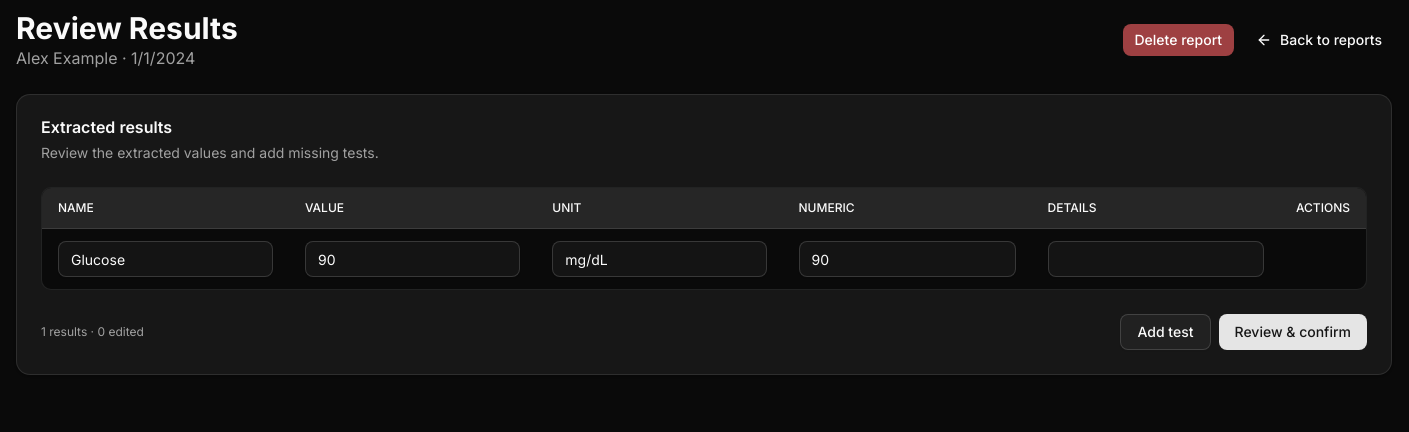
Test: confirm saves pending edits and marks edited
The image size is (1409, 432).
Replace the text in the field named "name" with "Fasting Glucose". click: (166, 259)
box: [58, 241, 273, 277]
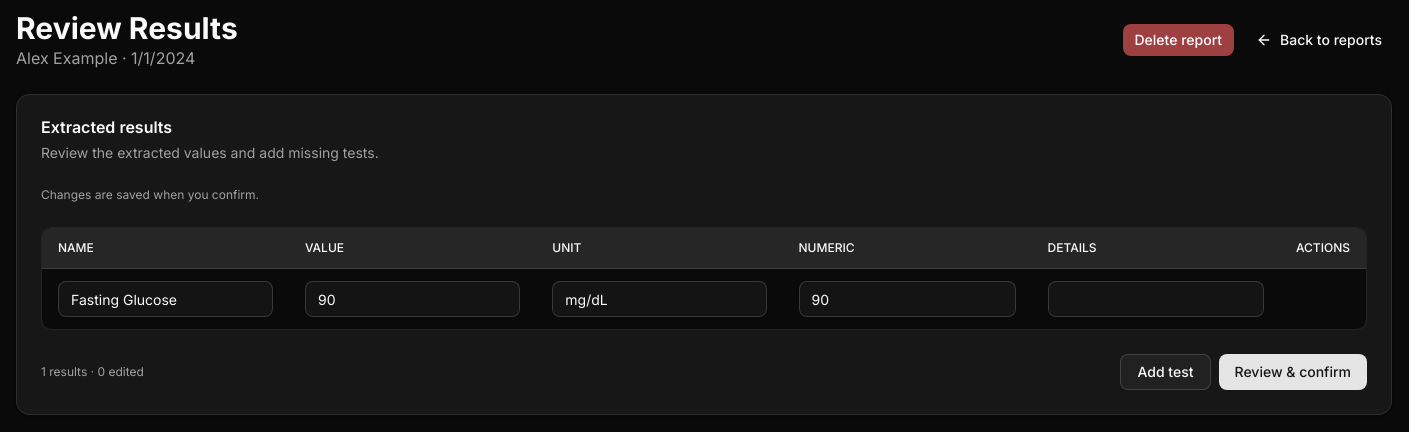
Replace the text in the field named "Value" with "95". click: (413, 299)
box: [305, 281, 520, 317]
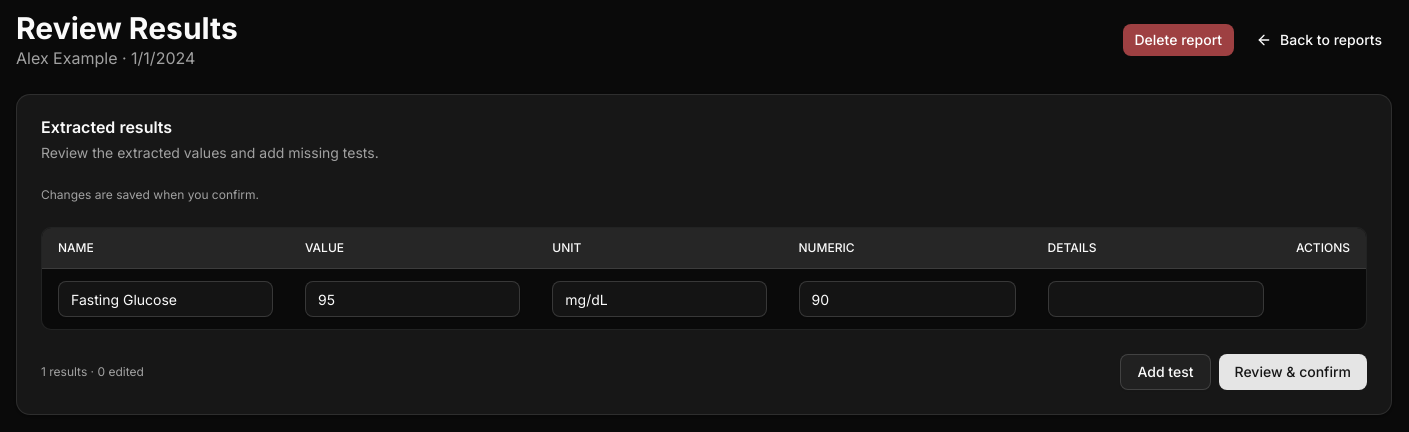
Click the button "Review & confirm". click: click(1293, 372)
box: [1218, 354, 1367, 390]
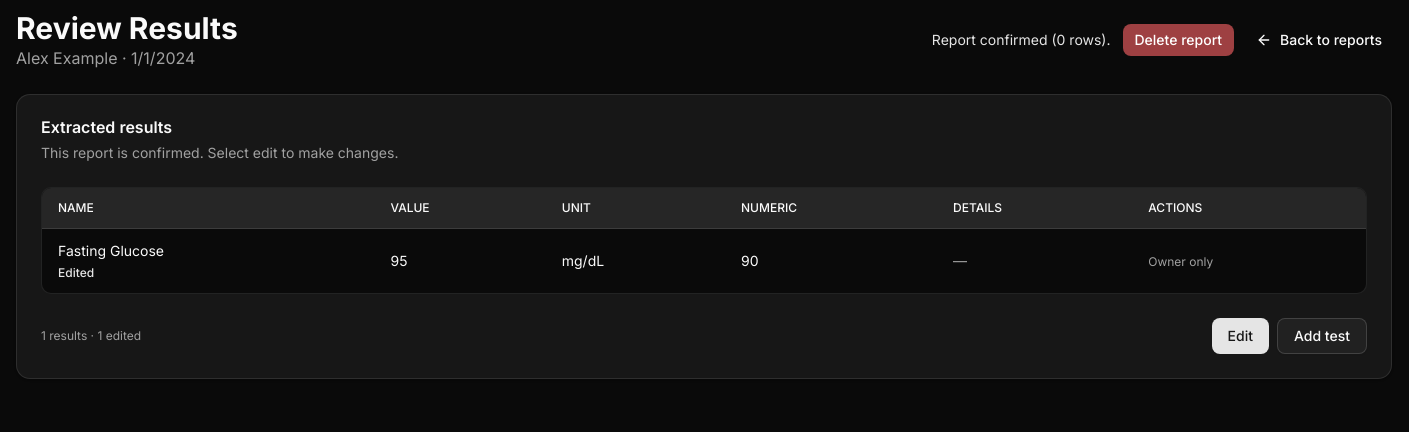
Check: the text "Edited" is shown, box [58, 265, 94, 280]
